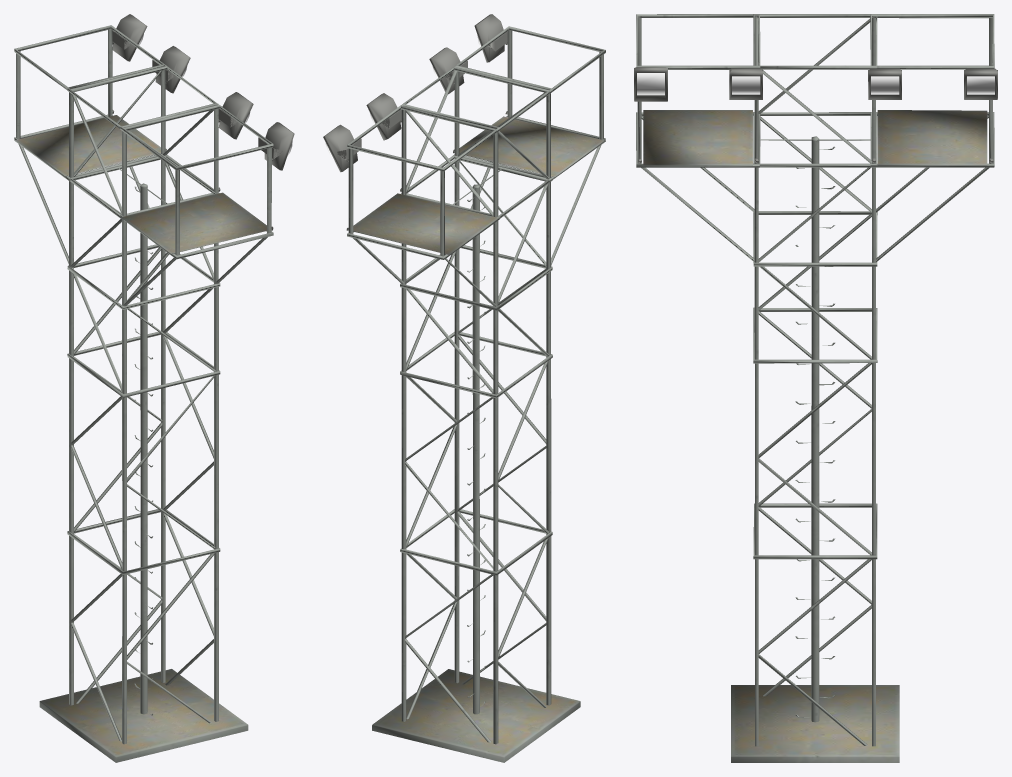
The model's file is floodlight.lod0.glb.
3 views of the same model, side by side, from view 1: azimuth 30°, elevation 25°; view 2: azimuth 150°, elevation 25°; view 3: azimuth 270°, elevation 25° (orthographic). The views are drawn at different scales.
Visible parts, largest first — view 1: LightsTower1_Frame_mat_0, LightsTower1_GLASS_Clear_m_0; view 2: LightsTower1_Frame_mat_0, LightsTower1_GLASS_Clear_m_0; view 3: LightsTower1_Frame_mat_0, LightsTower1_GLASS_Clear_m_0.
Part boxes in pixels (x1,y1,x2,y2): LightsTower1_Frame_mat_0: (14,25,273,762); LightsTower1_GLASS_Clear_m_0: (112,14,294,230); LightsTower1_Frame_mat_0: (347,26,605,762); LightsTower1_GLASS_Clear_m_0: (323,14,507,230); LightsTower1_Frame_mat_0: (636,14,994,762); LightsTower1_GLASS_Clear_m_0: (634,67,997,162).
Size of the model in its own units: 2.23 by 9.79 by 4.64.
2 materials, 1 textured.
